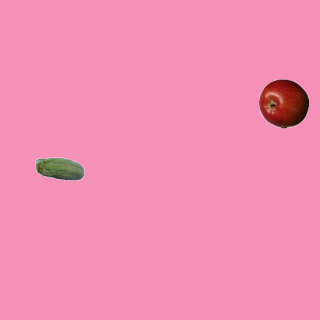Apple Braeburn: (258, 78, 308, 128)
Corn Husk: (34, 145, 84, 195)
